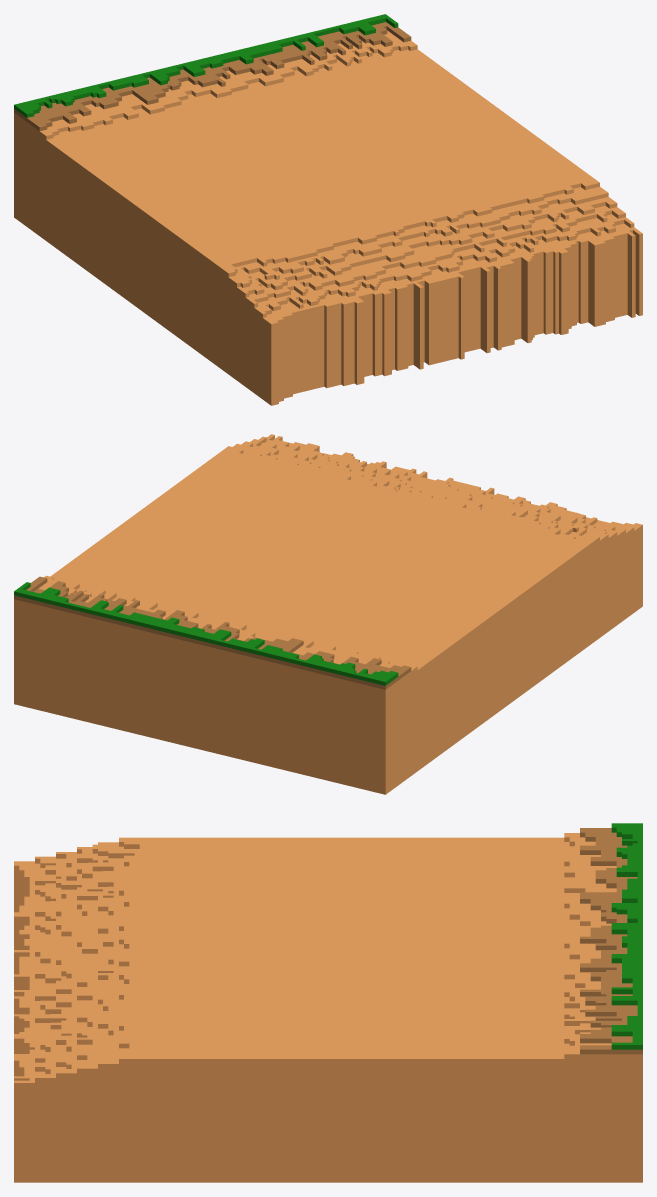
Rendered from SM_Beach_A1_ML.obj.
3 renders of one model, top to bottom at view 1: azimuth 30°, elevation 25°; view 2: azimuth 150°, elevation 25°; view 3: azimuth 270°, elevation 25°, orthographic. The views are drawn at different scales.
Bounding box in the file's own units: 10 × 2.9 × 12.
1 material, 1 textured.
